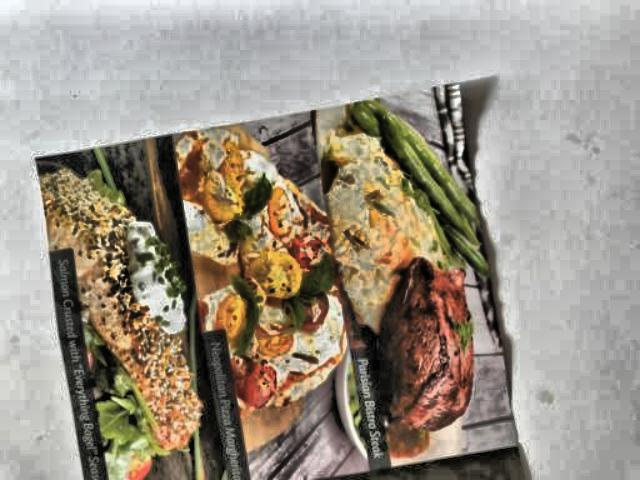Paper: (6, 83, 533, 480)
